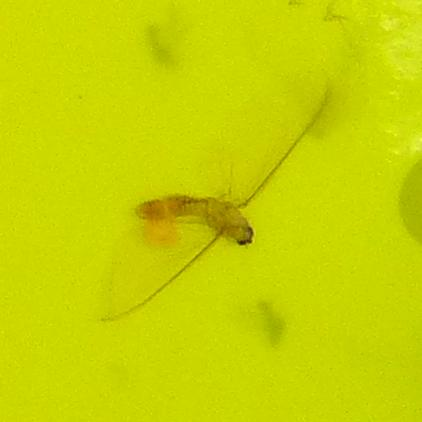Ephemeroptera: (100, 100, 322, 322)
